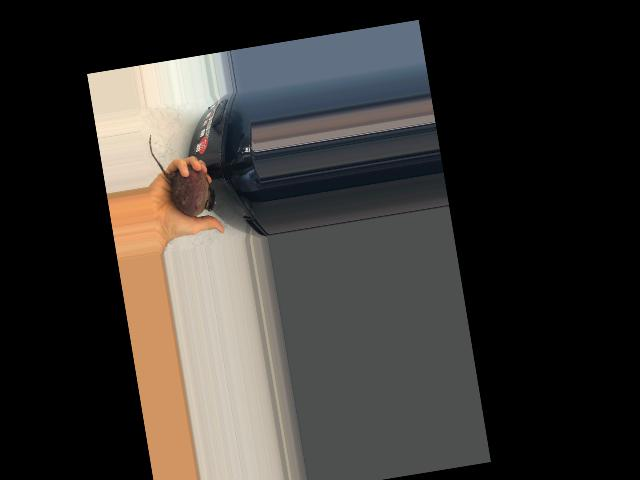beet: (147, 125, 217, 220)
